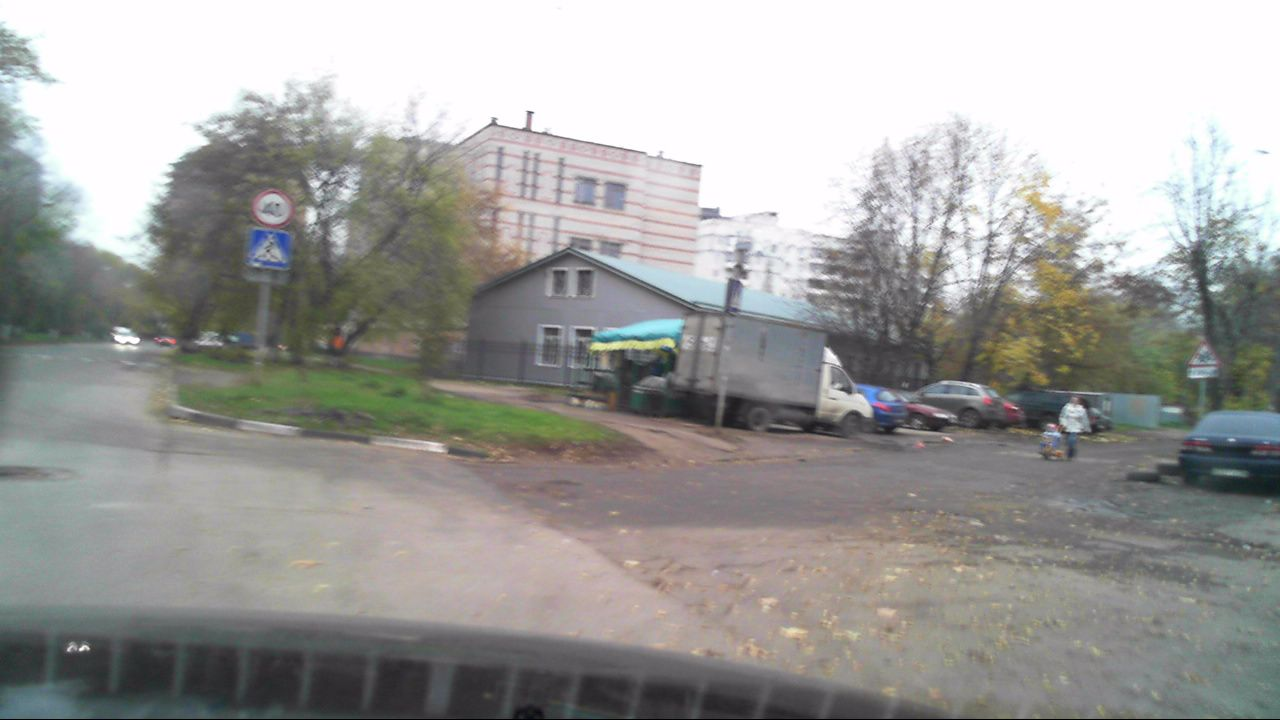speed_warning_40: (254, 189, 292, 226)
